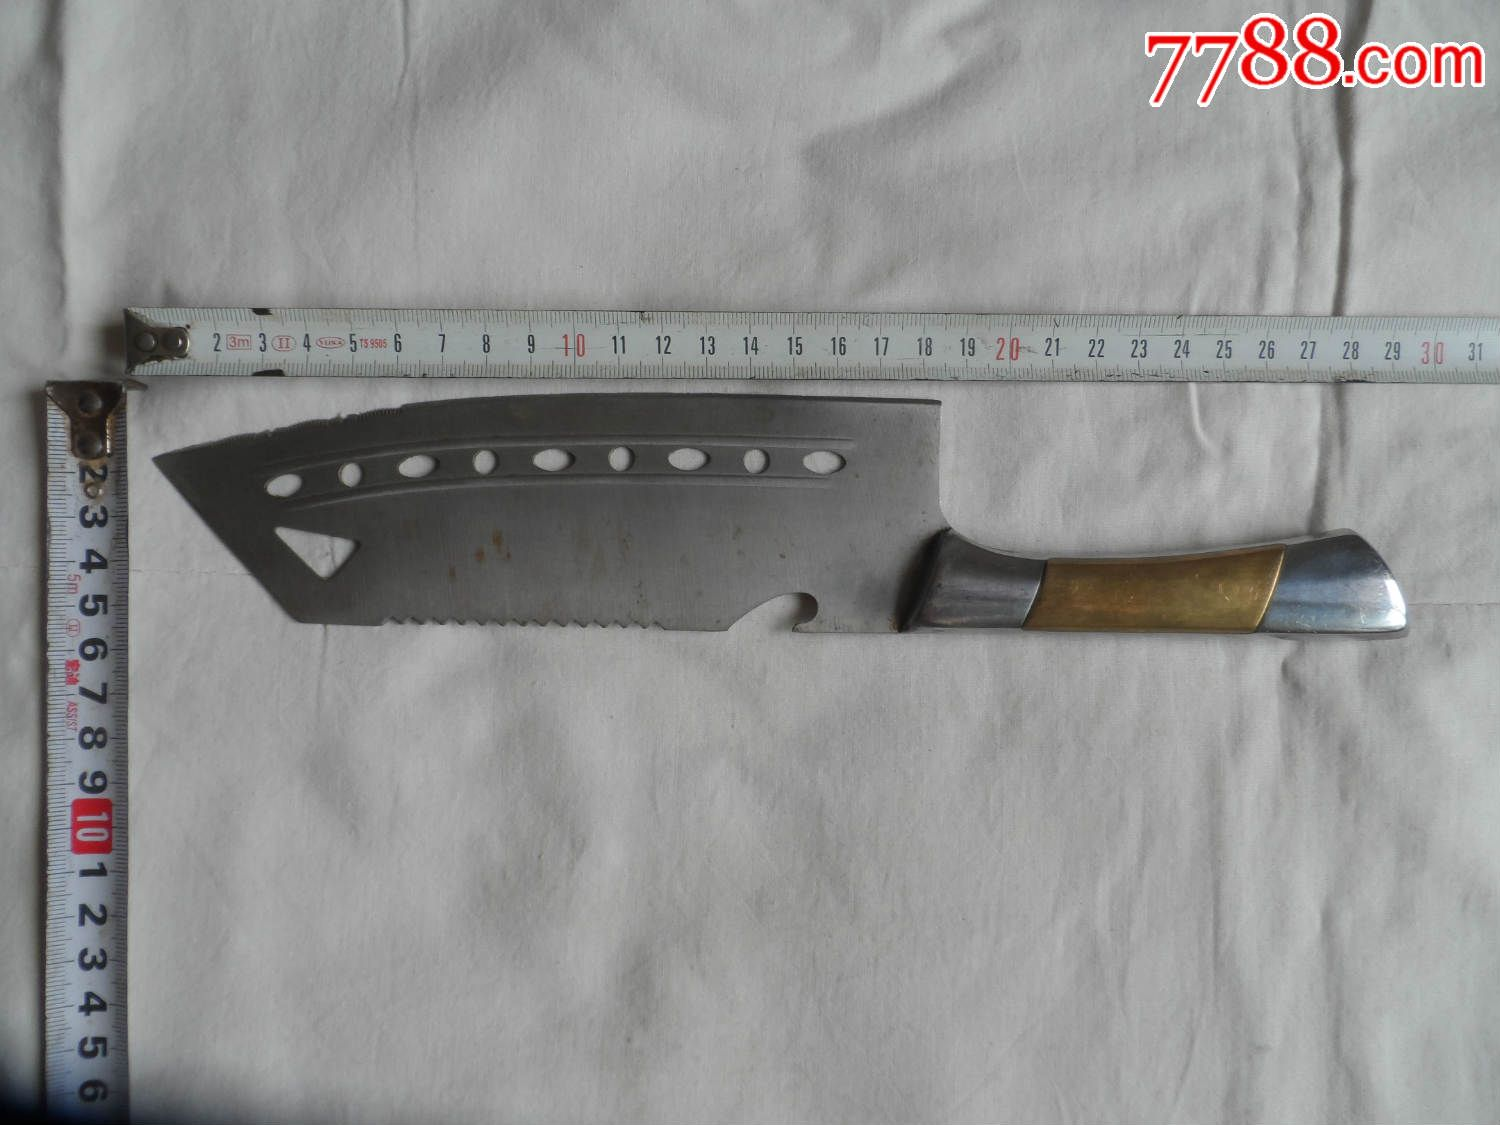knief: (161, 430, 1498, 678)
